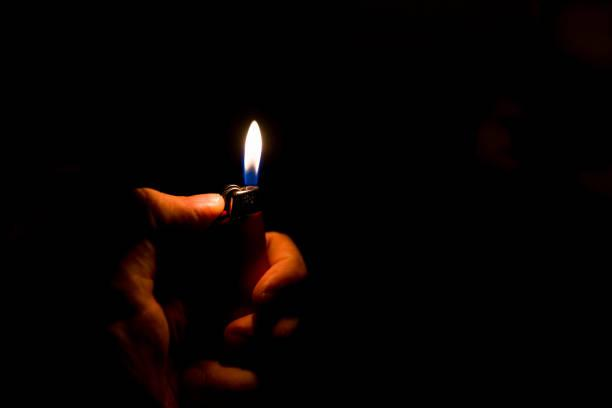Fire: (241, 117, 270, 184)
